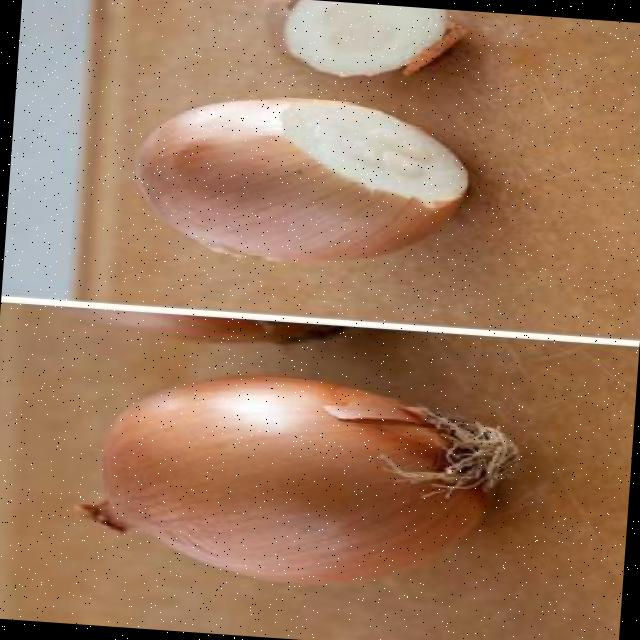Onion: (79, 375, 520, 581)
